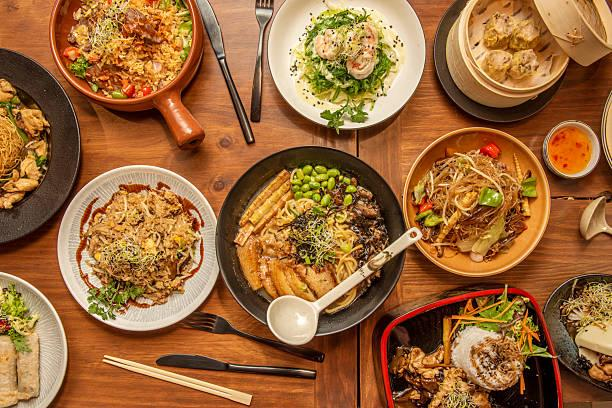Braised Crucian Carp: (214, 145, 401, 335), (55, 165, 217, 331), (377, 286, 565, 406), (403, 127, 552, 275), (264, 0, 423, 132), (432, 0, 570, 125), (49, 0, 201, 111)
